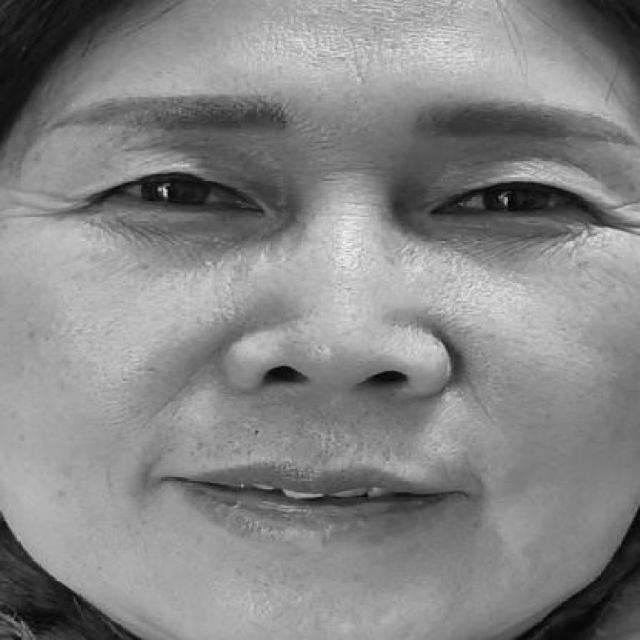happy: (26, 96, 640, 570)
